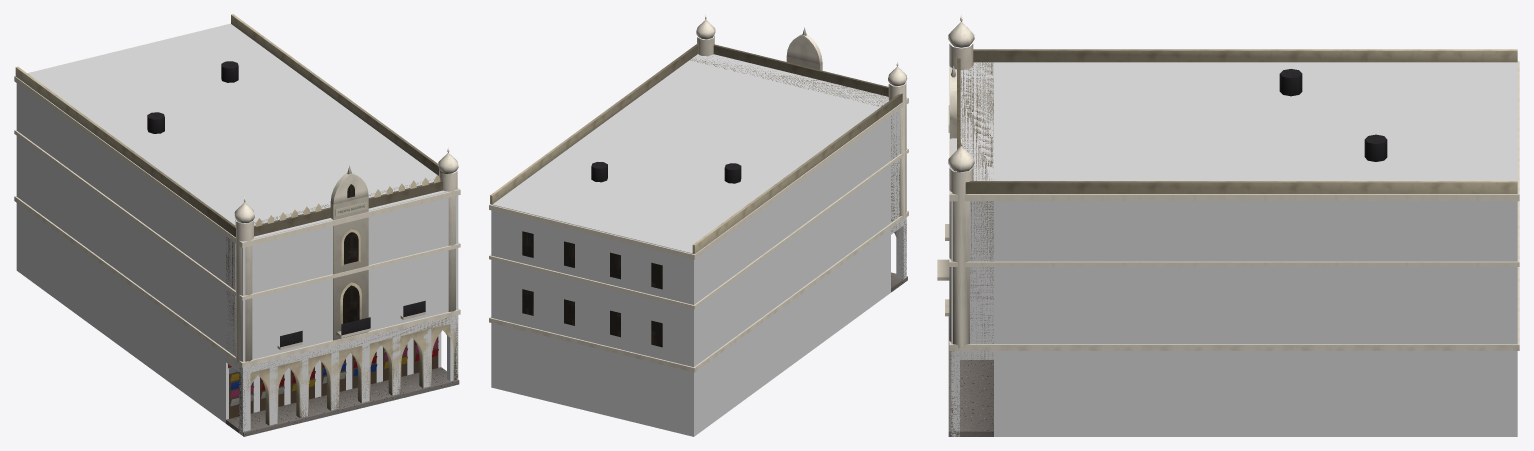
File: madina_building.glb
3 renders of one model, left to right at view 1: azimuth 30°, elevation 25°; view 2: azimuth 150°, elevation 25°; view 3: azimuth 270°, elevation 25°, orthographic. The views are drawn at different scales.
Parts seen in each view (by area): view 1: COL_madina, madina_building_body; view 2: COL_madina, madina_building_body; view 3: COL_madina, madina_building_body.
Boxes of the visible parts, left/top/right/bottom form: COL_madina: left=16, top=24, right=458, bottom=435; madina_building_body: left=14, top=14, right=460, bottom=436; COL_madina: left=491, top=54, right=906, bottom=436; madina_building_body: left=489, top=14, right=908, bottom=372; COL_madina: left=951, top=62, right=1517, bottom=436; madina_building_body: left=937, top=14, right=1519, bottom=436.
Size of the model in its own units: 45.36 by 47.7 by 82.3.
21 materials, 21 textured.
